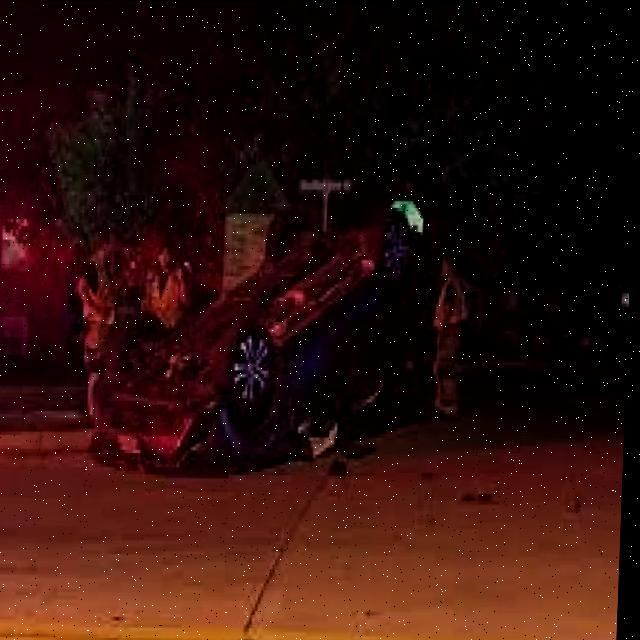single accident: (42, 147, 444, 501)
